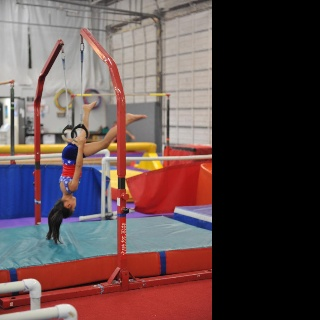without_mask: (70, 197, 76, 211)
